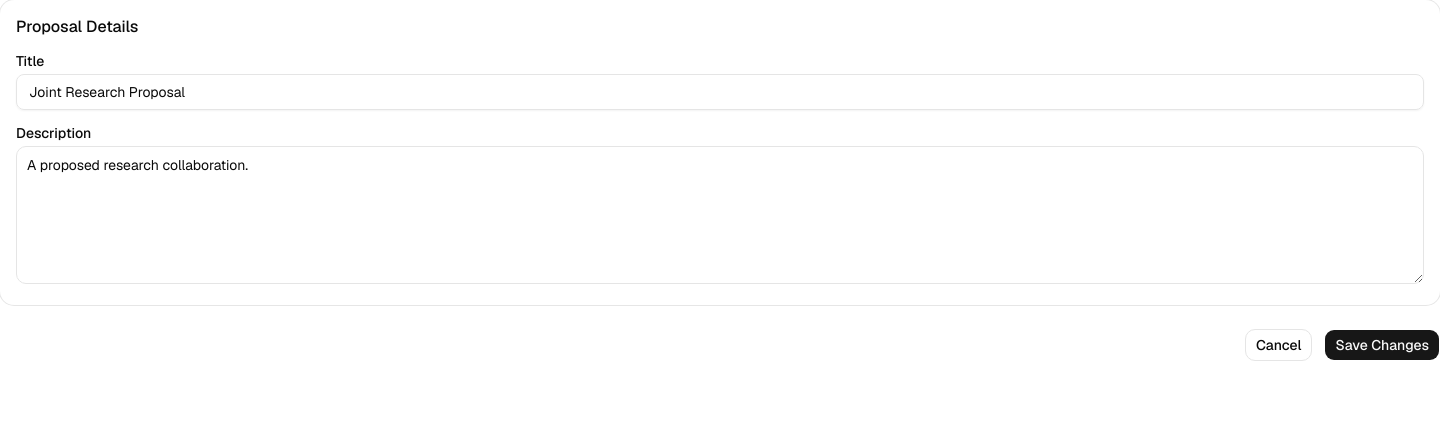
Scenario: CollaborationForm › blocks submit and shows errors when title/description are empty
The image size is (1452, 425).
Note: clear prefilled fields
Clear the field labelled "Title": (720, 92) x1=16 y1=74 x2=1424 y2=110
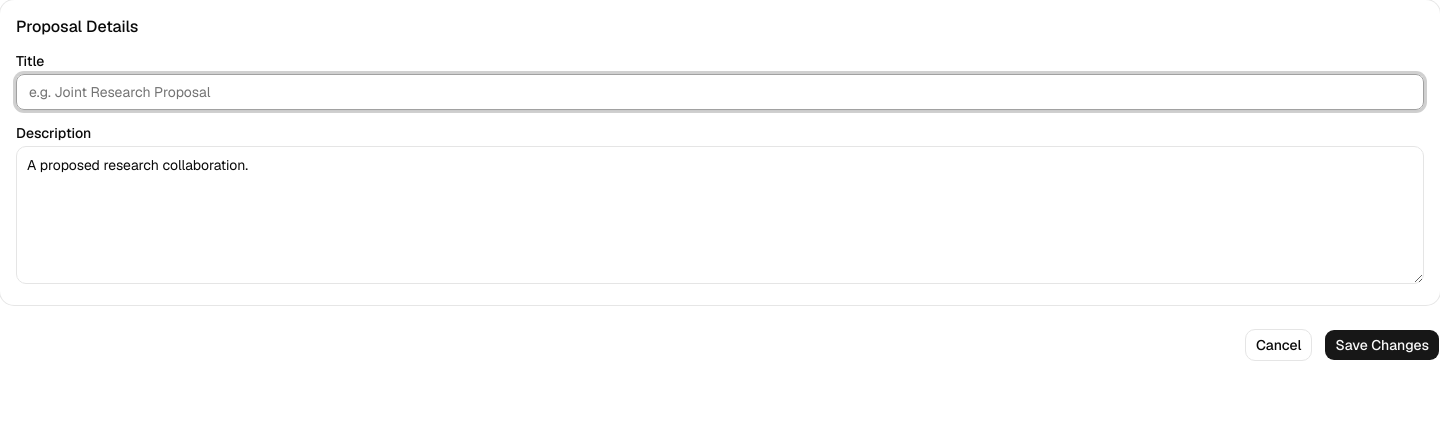
Clear the text box labelled "Description": (720, 215) x1=16 y1=146 x2=1424 y2=284
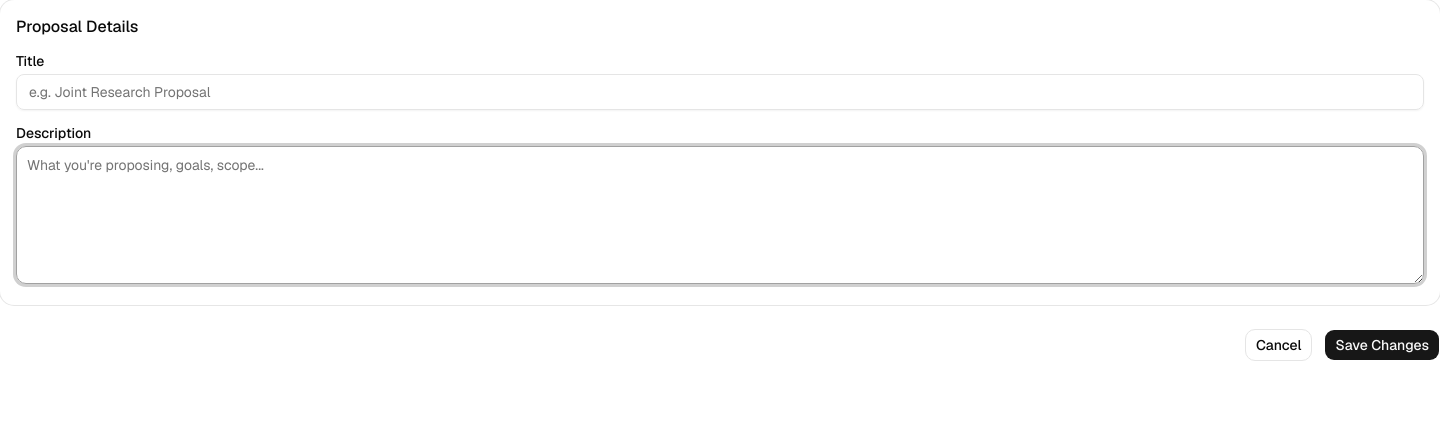
Click the button "Save Changes": (1382, 345) x1=1324 y1=329 x2=1440 y2=361
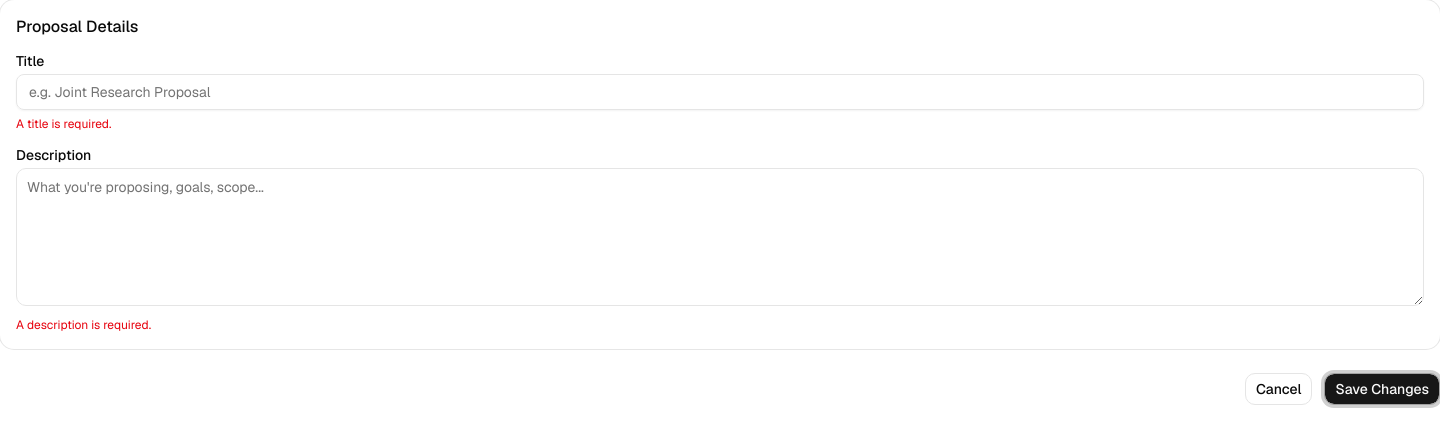
Check: the text "A title is required." is shown, box x1=16 y1=116 x2=111 y2=132
Check: the text "A description is required." is shown, box x1=16 y1=317 x2=151 y2=333
